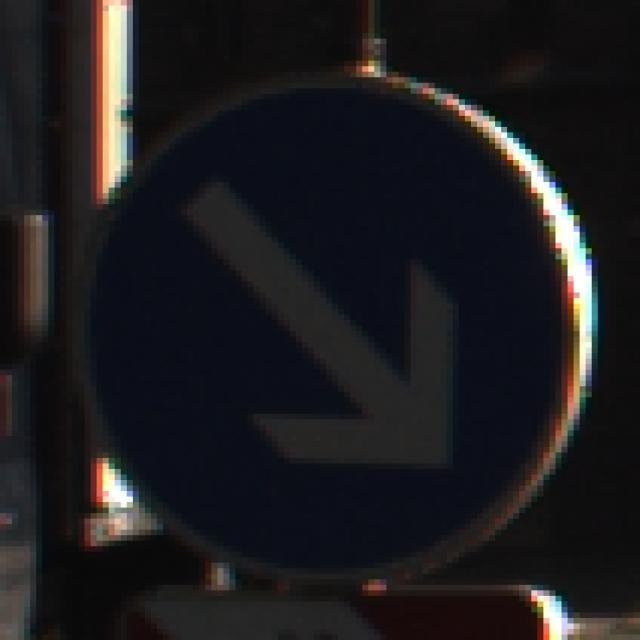compulsary keep right: (71, 72, 602, 581)
